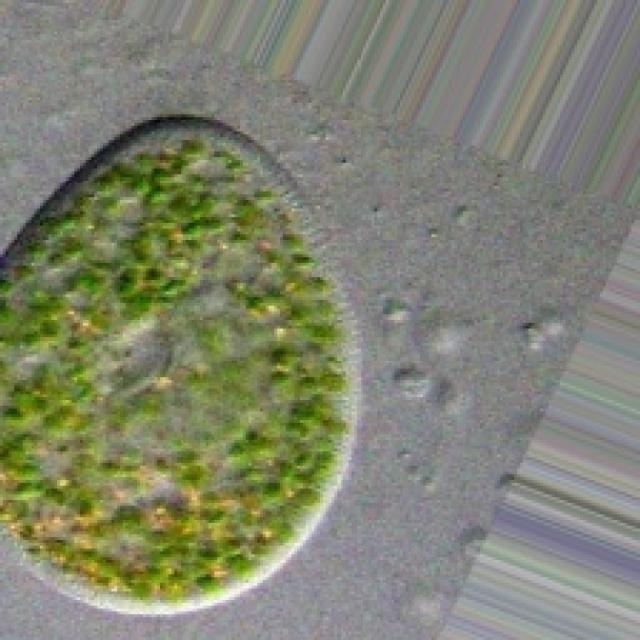Amoeba: (0, 128, 351, 605)
